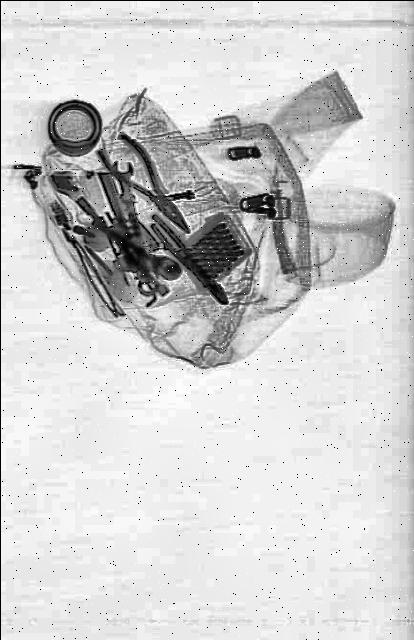Pliers: (95, 118, 200, 252), (146, 210, 232, 316)
Wrench: (111, 156, 160, 302)
